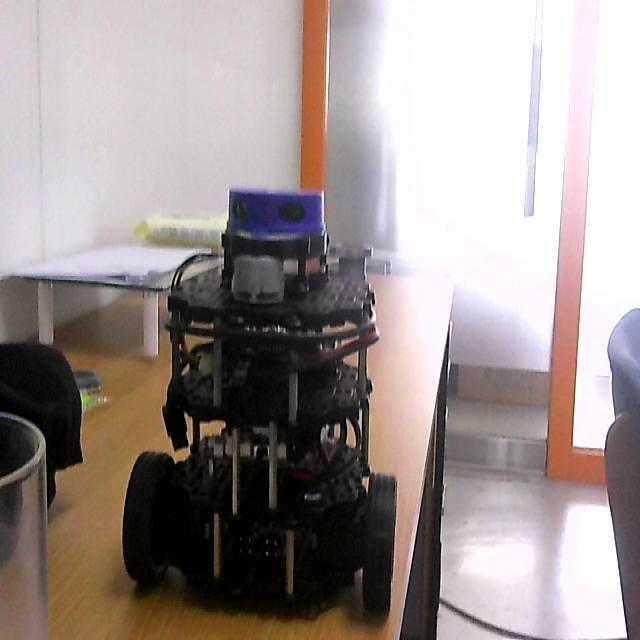turtle: (121, 181, 399, 625)
